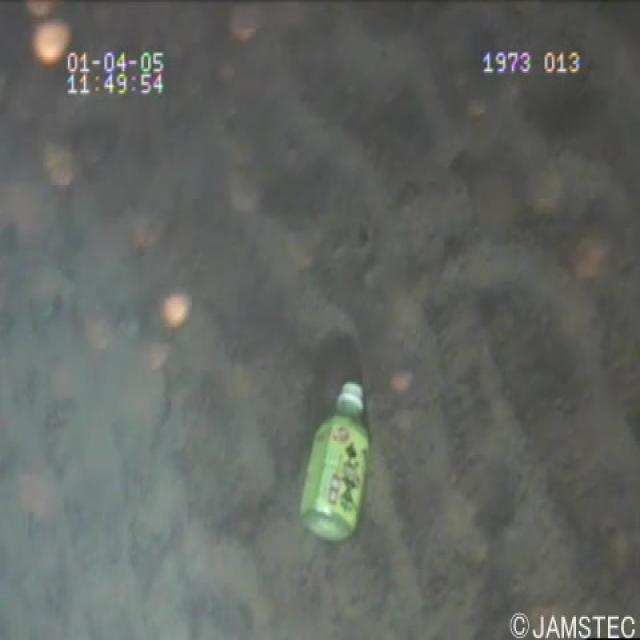plastic: (285, 372, 383, 544)
